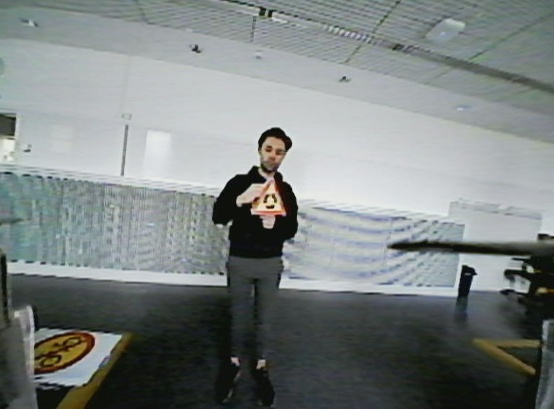roundabout_warning: (249, 177, 288, 223)
